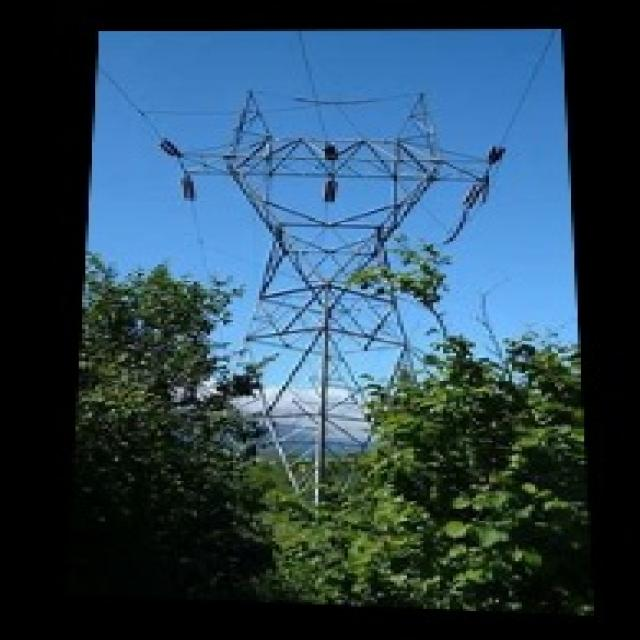utility poles: (152, 259, 312, 525), (328, 258, 479, 488)
